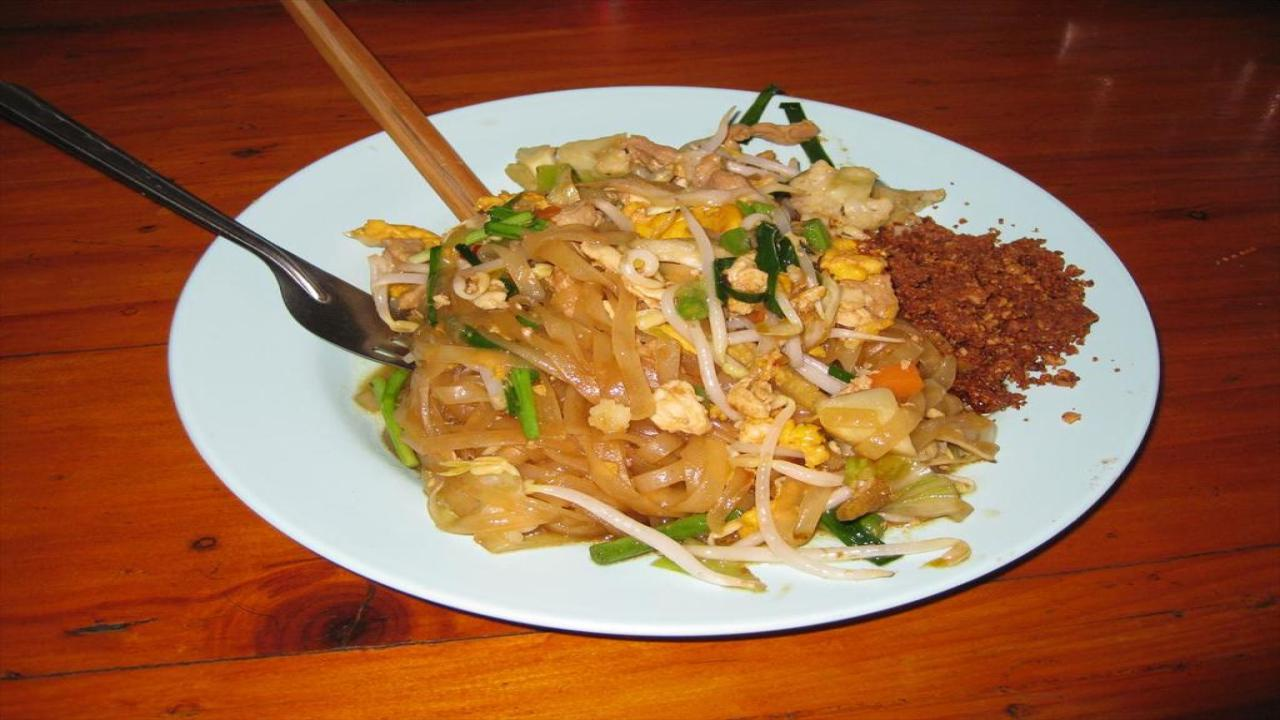chopstick: (282, 0, 493, 216)
fork: (0, 80, 412, 367)
